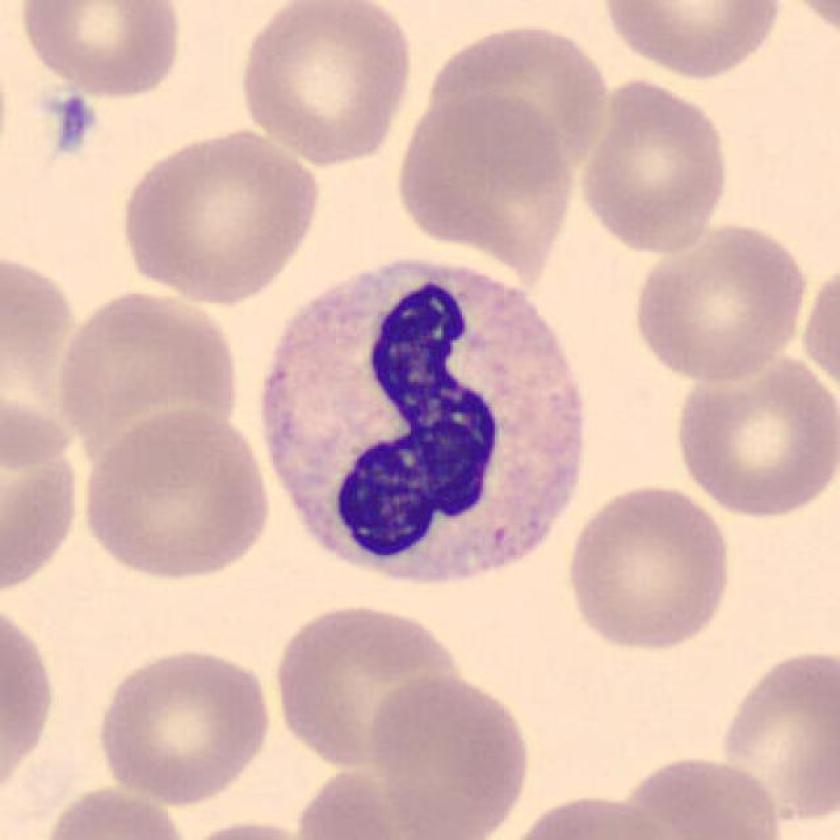neutrophil: (261, 261, 582, 582)
